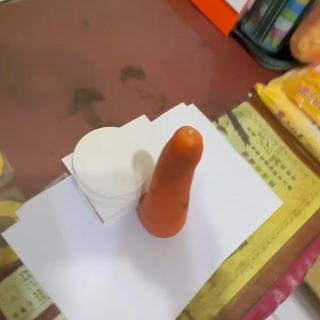carrot: (139, 126, 203, 238)
